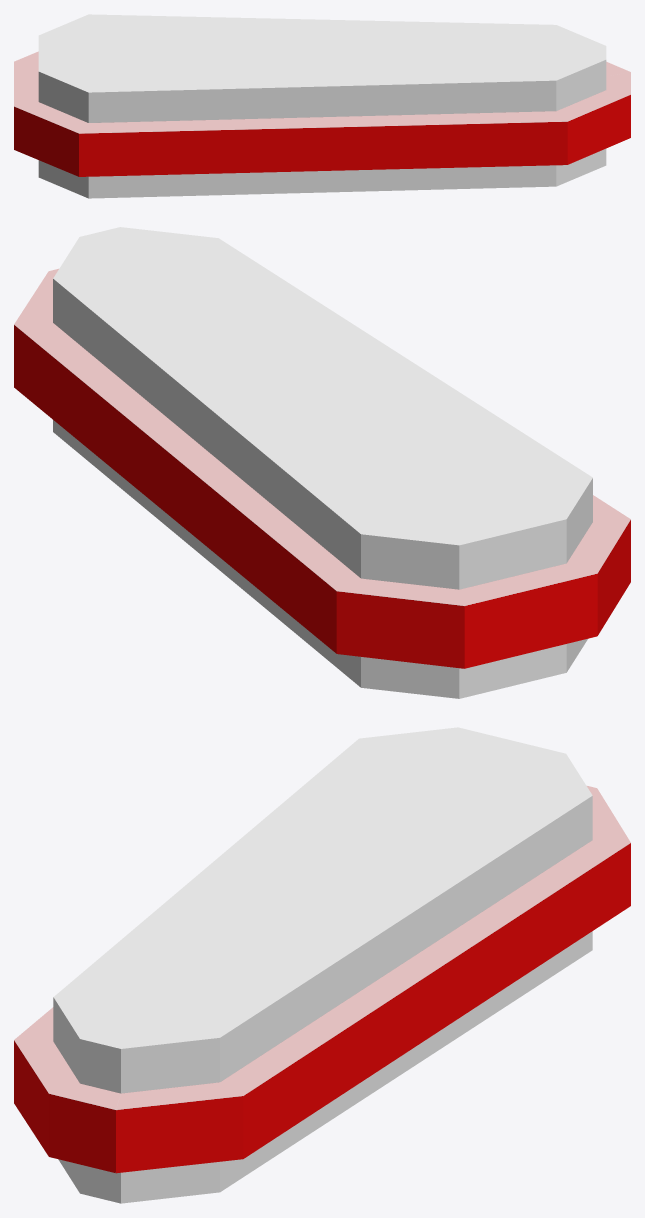
File: Flipper.obj
The picture shows the model from 3 angles, top to bottom: view 1: azimuth 30°, elevation 25°; view 2: azimuth 150°, elevation 25°; view 3: azimuth 270°, elevation 25°; orthographic projection. The views are drawn at different scales.
Parts seen in each view (by area): view 1: pasted__pCube1 group7; view 2: pasted__pCube1 group7; view 3: pasted__pCube1 group7.
Part boxes in pixels (x1,y1,x2,y2): pasted__pCube1 group7: (14, 14, 630, 198); pasted__pCube1 group7: (14, 227, 630, 698); pasted__pCube1 group7: (14, 727, 630, 1203).
Size of the model in its own units: 0.2813 by 0.0572 by 0.2069.
1 material, 1 textured.
